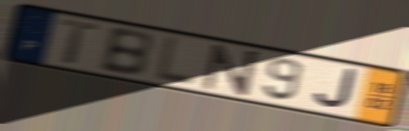9: (262, 57, 304, 101)
B: (96, 26, 155, 79)
J: (312, 66, 359, 111)
L: (151, 34, 199, 89)
N: (200, 42, 262, 98)
T: (59, 18, 102, 67)
